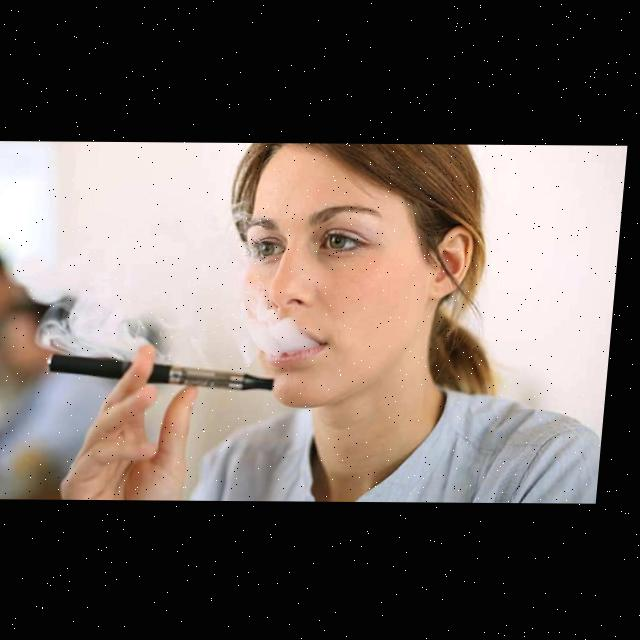vape: (52, 352, 284, 392)
